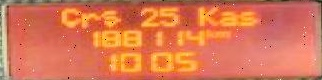0: (115, 52, 140, 71), (149, 51, 171, 71)
1: (106, 51, 115, 71), (151, 30, 162, 46), (89, 29, 98, 47), (173, 30, 182, 46)
2: (135, 7, 157, 26)
4: (182, 28, 204, 45)
5: (171, 51, 195, 71), (155, 6, 177, 26)
8: (120, 30, 140, 46), (100, 30, 118, 46)
X: (195, 5, 217, 25), (58, 7, 78, 27), (98, 10, 120, 26), (78, 12, 98, 27), (235, 9, 255, 24), (217, 11, 235, 25), (204, 27, 213, 37), (213, 30, 228, 36)
